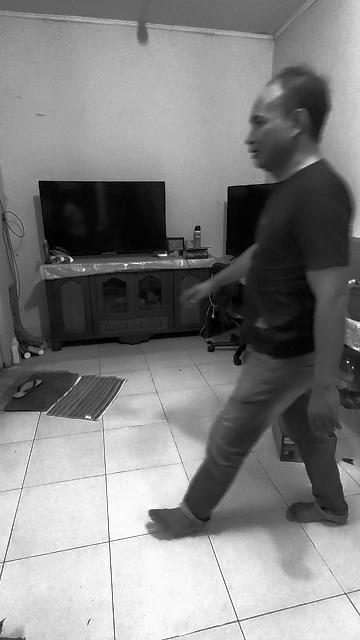berjalan: (140, 66, 352, 538)
